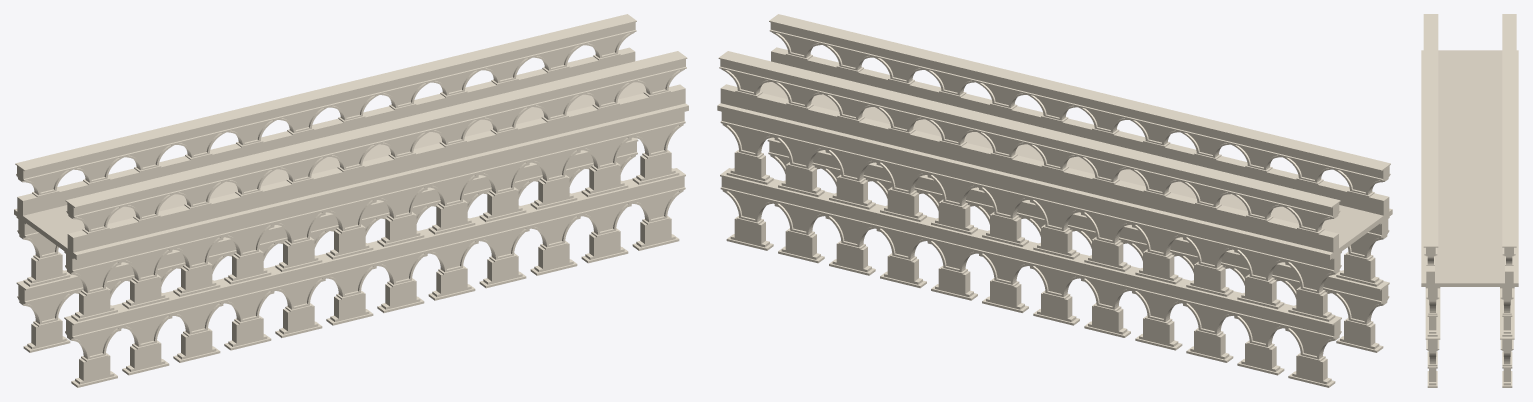
The model's file is BigWall.fbx.
The picture shows the model from 3 angles, left to right: view 1: azimuth 30°, elevation 25°; view 2: azimuth 150°, elevation 25°; view 3: azimuth 270°, elevation 25°; orthographic projection. The views are drawn at different scales.
Parts seen in each view (by area): view 1: buildings4; view 2: buildings4; view 3: buildings4.
Boxes of the visible parts, box(x1,y1,x2,y2) form: buildings4: box(14, 14, 688, 387); buildings4: box(717, 14, 1392, 387); buildings4: box(1421, 14, 1518, 387).
Size of the model in its own units: 71.98 by 20.67 by 12.72.
